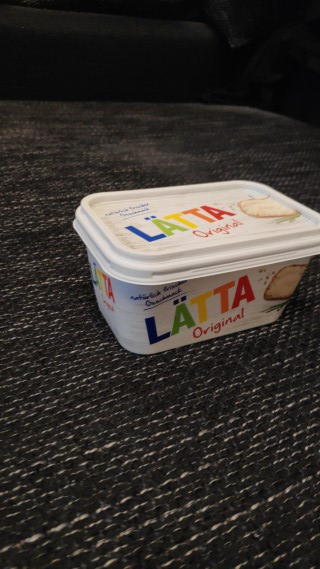laetta: (70, 180, 320, 354)
